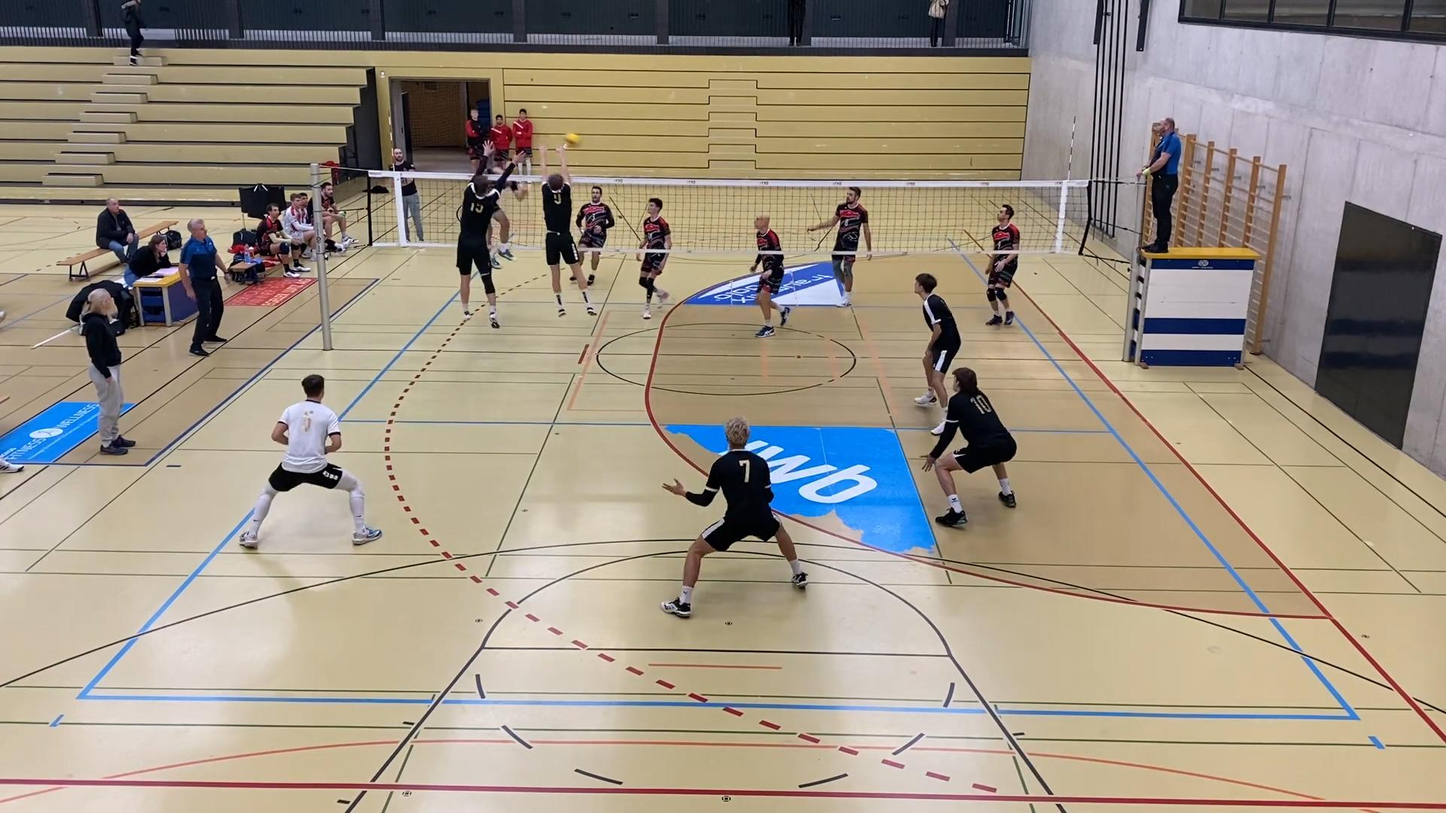Attack: (493, 161, 531, 263)
Block: (455, 140, 533, 332), (538, 143, 602, 318)
Player: (661, 417, 807, 617), (239, 374, 382, 548), (923, 367, 1016, 526), (807, 187, 871, 306), (914, 273, 961, 406), (750, 215, 790, 337), (636, 197, 672, 319), (986, 204, 1020, 325), (575, 186, 615, 284)
ball: (561, 128, 583, 142)
